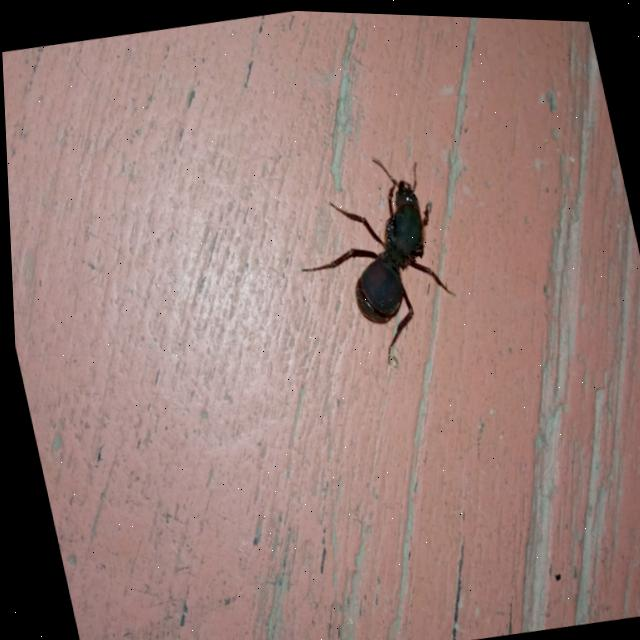Alive-Female-Dealate: (276, 141, 466, 376)
